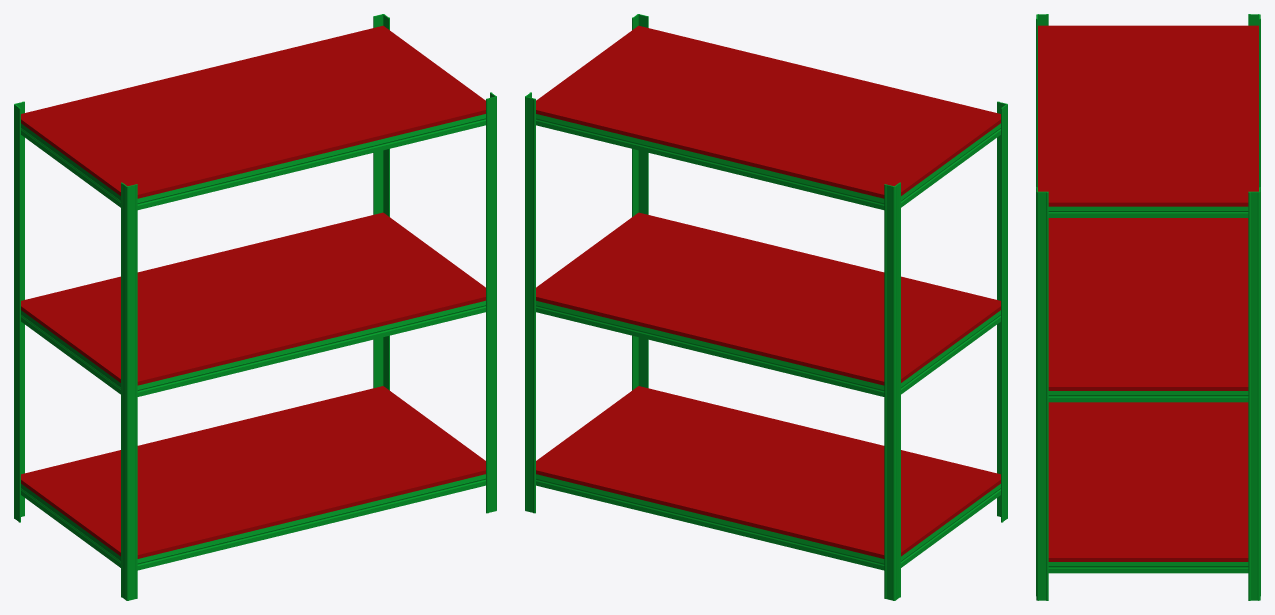
The model's file is SM_shelves_sheets.fbx.
3 renders of one model, left to right at view 1: azimuth 30°, elevation 25°; view 2: azimuth 150°, elevation 25°; view 3: azimuth 270°, elevation 25°, orthographic.
Visible parts, largest first — view 1: SM_shelves_sheets; view 2: SM_shelves_sheets; view 3: SM_shelves_sheets.
Part boxes in pixels (<box>): SM_shelves_sheets: <box>14,14,496,600</box>; SM_shelves_sheets: <box>525,14,1007,600</box>; SM_shelves_sheets: <box>1036,14,1260,600</box>.
Bounding box in the file's own units: 1.99 × 2.12 × 1.06.
